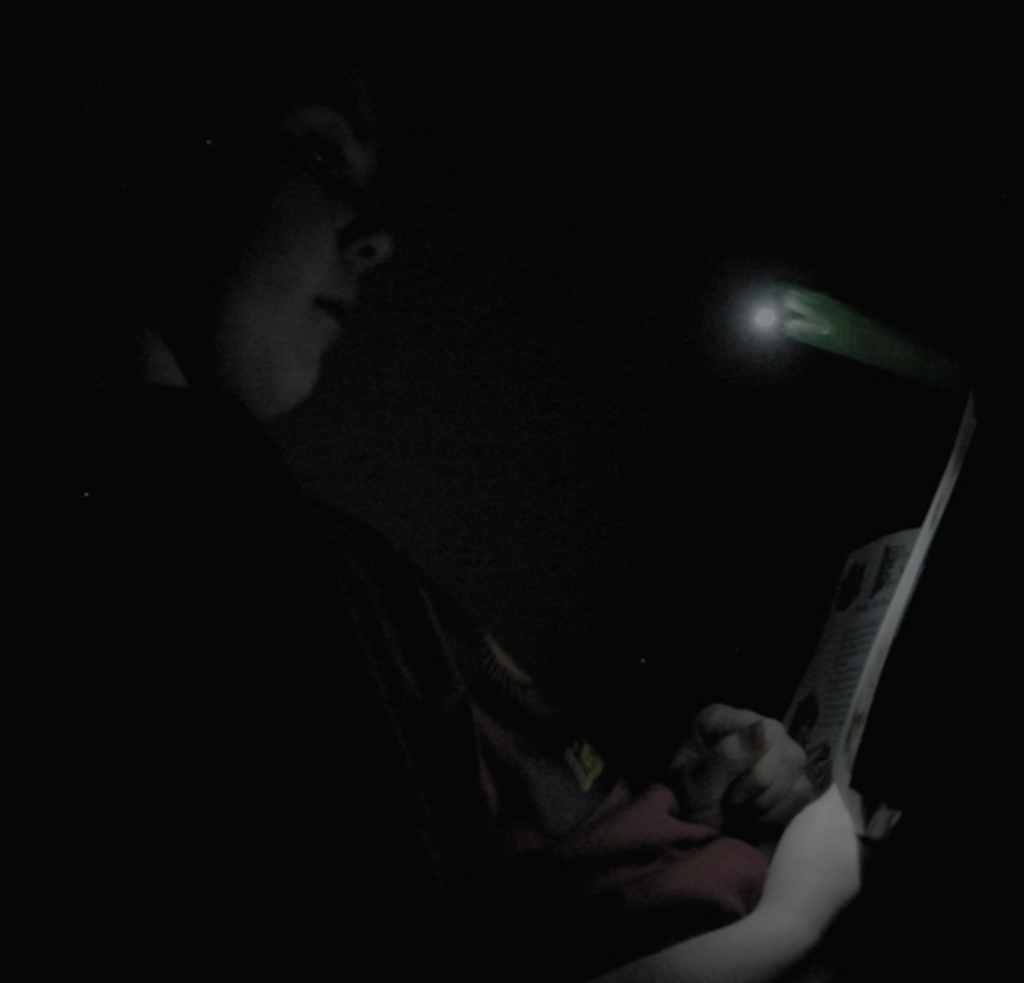face: (197, 114, 383, 420)
